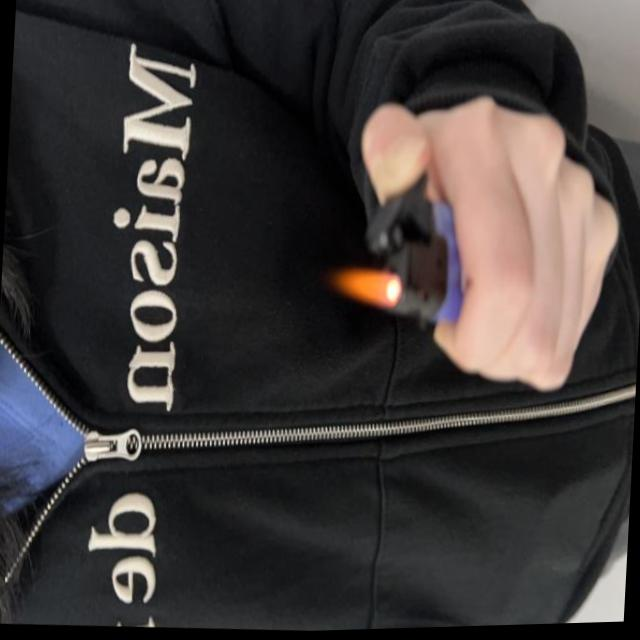Fire: (325, 267, 405, 313)
